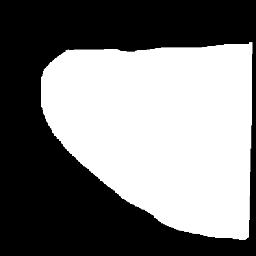mass: (34, 39, 254, 220)
